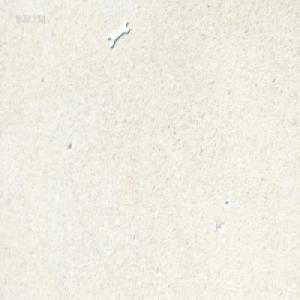Wrench: (107, 19, 129, 47)
